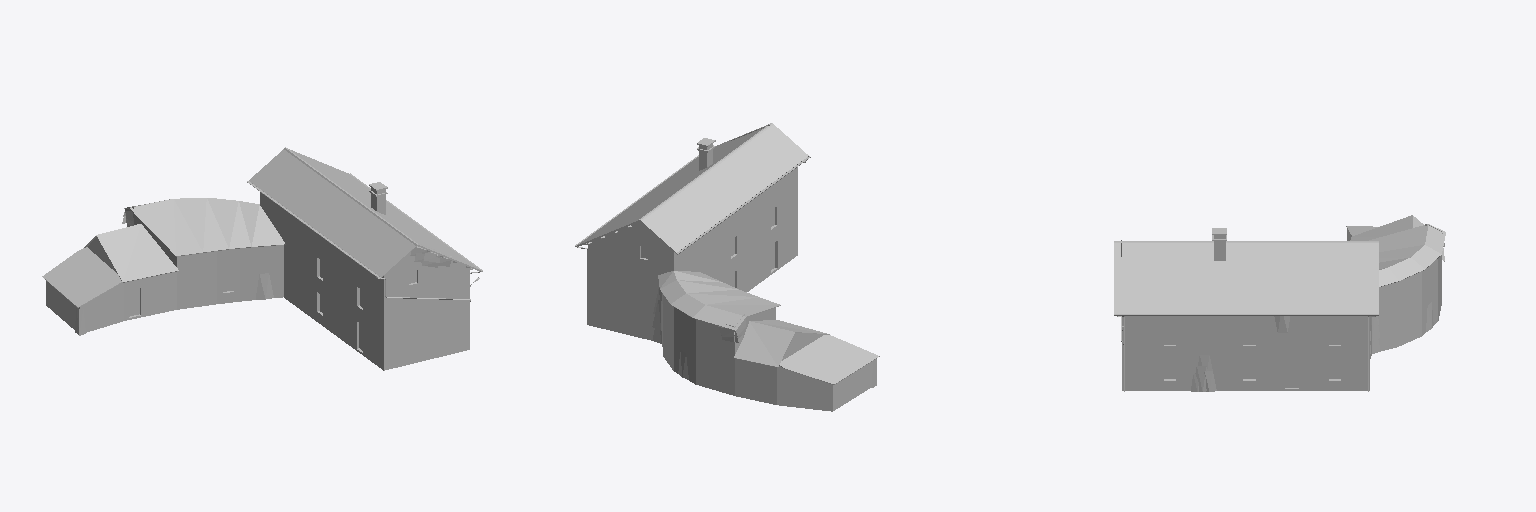
The model's file is House.obj.
The picture shows the model from 3 angles: view 1: azimuth 30°, elevation 25°; view 2: azimuth 150°, elevation 25°; view 3: azimuth 270°, elevation 25°; orthographic projection.
Visible parts, largest first — view 1: Old_stone_house; view 2: Old_stone_house; view 3: Old_stone_house.
Boxes of the visible parts, x1,y1,x2,y2 form: Old_stone_house: [42, 147, 482, 370]; Old_stone_house: [575, 123, 879, 411]; Old_stone_house: [1114, 215, 1445, 391].
Bounding box in the file's own units: 239 × 110 × 238.